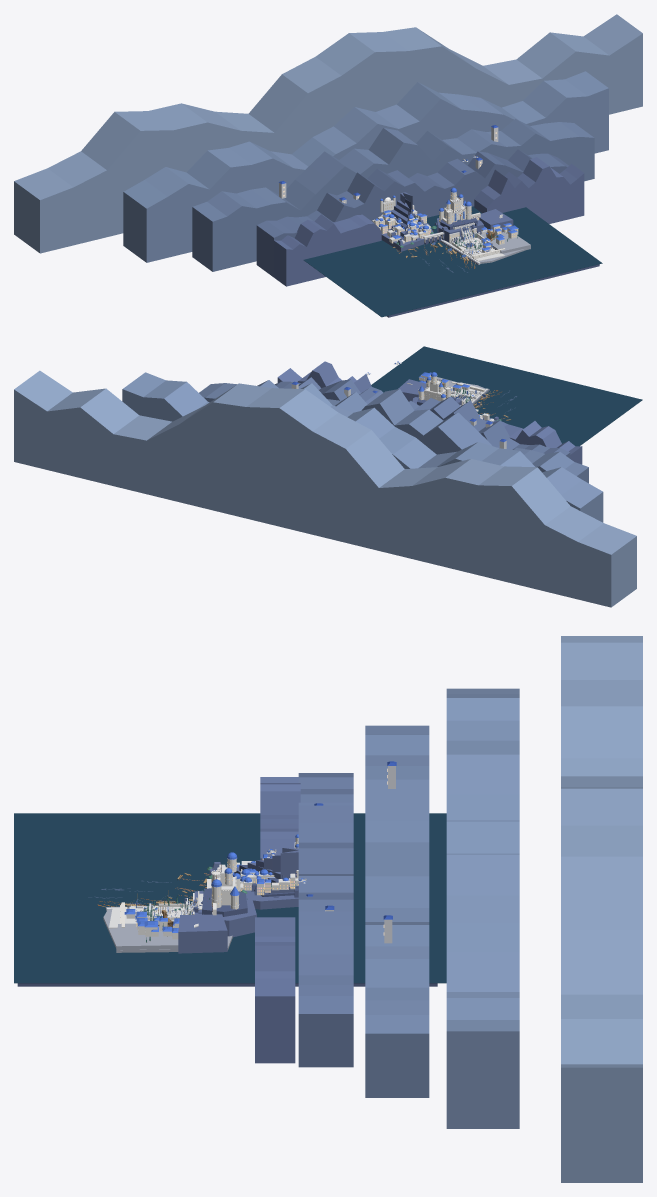
The model's file is citadel-battle-v1.glb.
3 renders of one model, top to bottom at view 1: azimuth 30°, elevation 25°; view 2: azimuth 150°, elevation 25°; view 3: azimuth 270°, elevation 25°, orthographic. The views are drawn at different scales.
Parts seen in each view (by area): view 1: Mountains_ridge_4, Mountains_ridge_3, Mountains_ridge_2, Water, Mountains_rock_mid, Mountains_ridge_1, Terrain_rock_mid, Terrain_rock_dark, OldCity_wall, Terrain_ground, Keep_wall, OldCity_roof_blue; view 2: Mountains_ridge_4, Water, Mountains_ridge_3, Mountains_ridge_2, Mountains_ridge_1, Mountains_rock_mid, Keep_wall, Terrain_rock_mid; view 3: Mountains_ridge_4, Water, Mountains_ridge_3, Mountains_ridge_2, Mountains_ridge_1, Mountains_rock_mid, Terrain_rock_mid, Terrain_rock_dark, Terrain_ground, Keep_wall.
Part boxes in pixels (left/top/right/bottom): Mountains_ridge_4: left=14, top=14, right=642, bottom=253; Mountains_ridge_3: left=123, top=71, right=608, bottom=262; Mountains_ridge_2: left=192, top=119, right=594, bottom=271; Water: left=303, top=206, right=602, bottom=317; Mountains_rock_mid: left=273, top=157, right=584, bottom=286; Mountains_ridge_1: left=256, top=149, right=568, bottom=276; Terrain_rock_mid: left=381, top=192, right=513, bottom=251; Terrain_rock_dark: left=387, top=198, right=599, bottom=317; OldCity_wall: left=372, top=197, right=430, bottom=243; Terrain_ground: left=439, top=232, right=530, bottom=263; Keep_wall: left=439, top=192, right=480, bottom=227; OldCity_roof_blue: left=375, top=195, right=430, bottom=238; Mountains_ridge_4: left=14, top=370, right=636, bottom=607; Water: left=371, top=346, right=642, bottom=446; Mountains_ridge_3: left=122, top=372, right=603, bottom=522; Mountains_ridge_2: left=199, top=380, right=588, bottom=483; Mountains_ridge_1: left=275, top=377, right=570, bottom=458; Mountains_rock_mid: left=277, top=361, right=582, bottom=464; Keep_wall: left=418, top=377, right=453, bottom=401; Terrain_rock_mid: left=398, top=379, right=499, bottom=420; Mountains_ridge_4: left=561, top=636, right=642, bottom=1182; Water: left=14, top=813, right=446, bottom=983; Mountains_ridge_3: left=446, top=688, right=519, bottom=1128; Mountains_ridge_2: left=365, top=725, right=429, bottom=1097; Mountains_ridge_1: left=298, top=773, right=353, bottom=1067; Mountains_rock_mid: left=255, top=777, right=300, bottom=1063; Terrain_rock_mid: left=178, top=848, right=298, bottom=953; Terrain_rock_dark: left=17, top=855, right=437, bottom=986; Terrain_ground: left=103, top=907, right=232, bottom=952; Keep_wall: left=198, top=860, right=240, bottom=915.
Bounding box in the file's own units: 1200 × 228 × 689.
